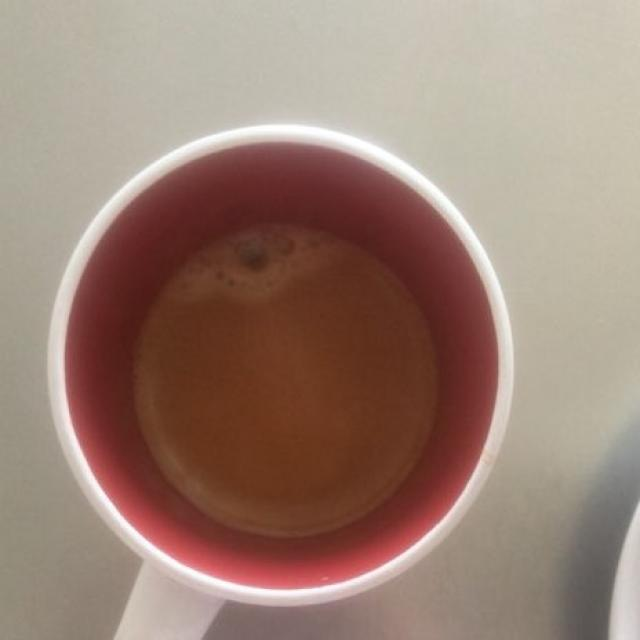coffee: (117, 220, 441, 546)
